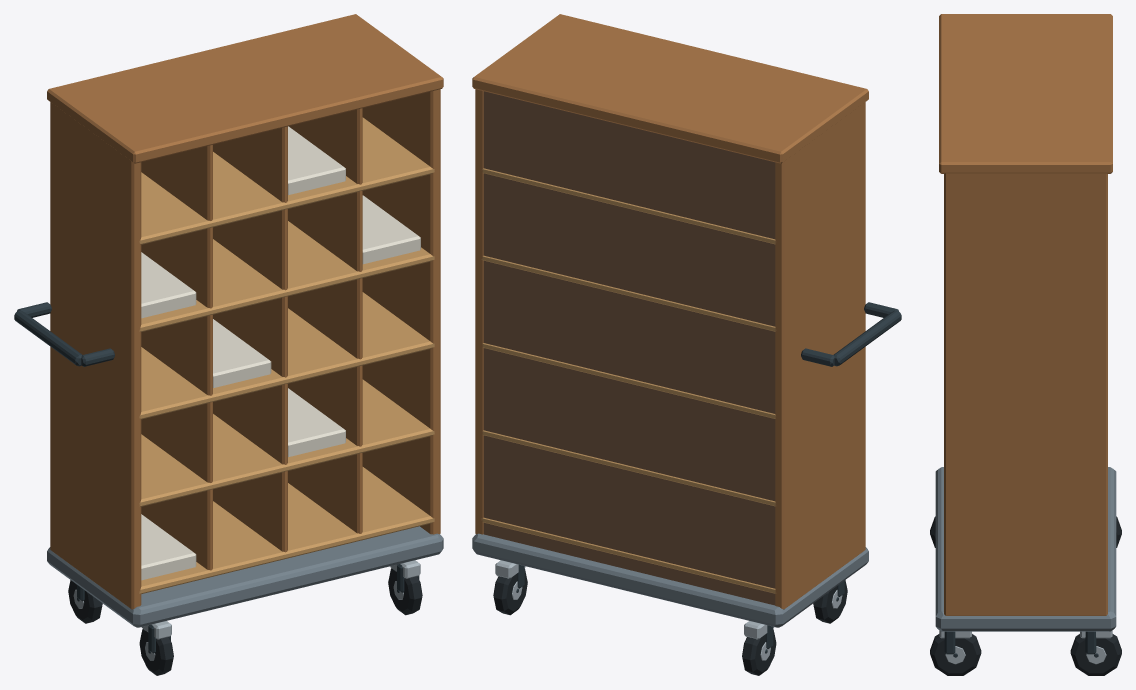
The model's file is b14_mobile_letter_sorting_cubbies.glb.
The picture shows the model from 3 angles, left to right: view 1: azimuth 30°, elevation 25°; view 2: azimuth 150°, elevation 25°; view 3: azimuth 270°, elevation 25°; orthographic projection.
Parts seen in each view (by area): view 1: b14_mobile_letter_sorting_cubbies; view 2: b14_mobile_letter_sorting_cubbies; view 3: b14_mobile_letter_sorting_cubbies.
Part boxes in pixels (x1,y1,x2,y2): b14_mobile_letter_sorting_cubbies: (14,14,443,675); b14_mobile_letter_sorting_cubbies: (472,14,901,675); b14_mobile_letter_sorting_cubbies: (930,14,1121,675).
Size of the model in its own units: 1.24 by 1.77 by 0.585.
